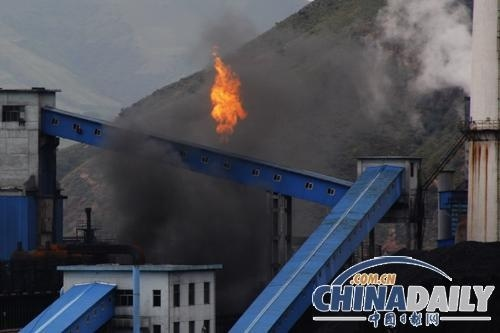fire: (207, 52, 245, 133)
